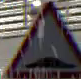Speed Breaker ahead: (3, 2, 80, 78)
